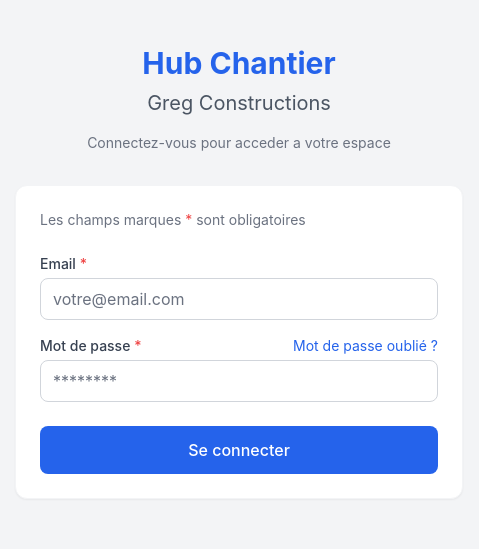
LoginPage › should show error on login failure
This screenshot has width=479, height=549.
Type "test@example.com" into the field labelled "Email *" at (239, 299), box [40,278,438,320]
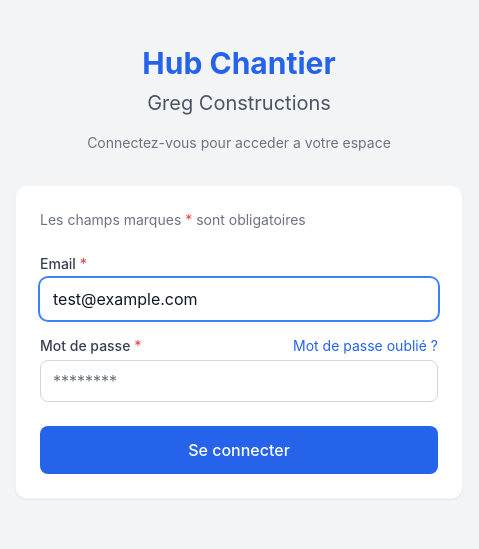
Type "wrongpassword" into the password field labelled "Mot de passe *" at (239, 381), box [40,360,438,402]
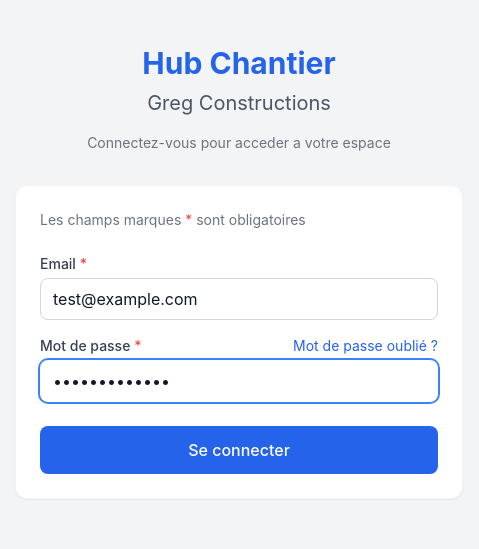
Click the button "Se connecter" at (239, 450), box [40,426,438,474]
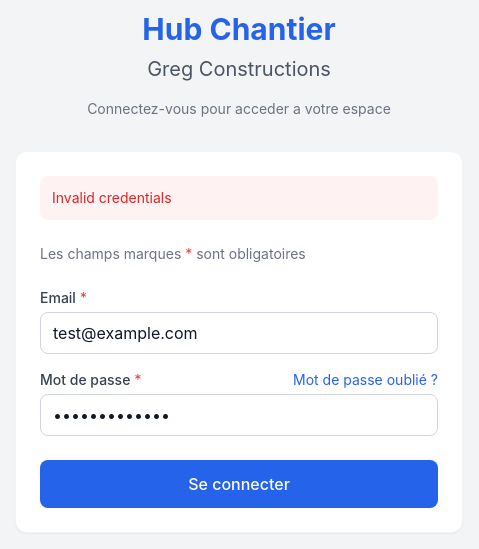
expect the text "Invalid credentials" is shown: met, box [40,176,438,220]
